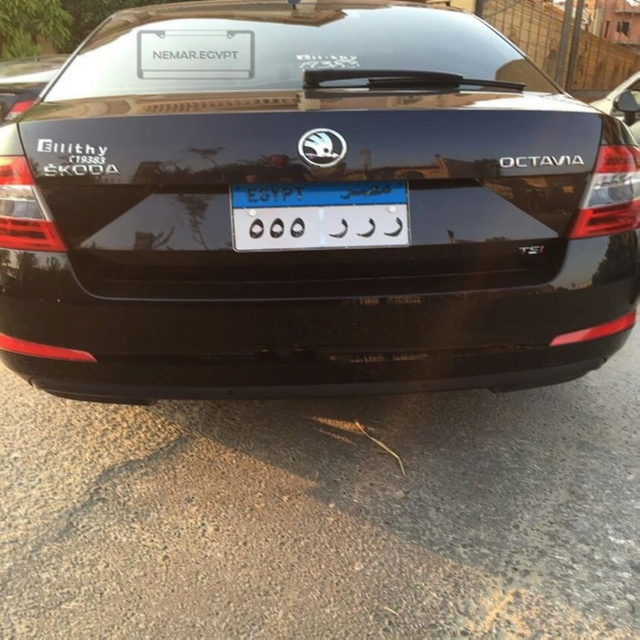License Plate: (224, 175, 416, 255)
